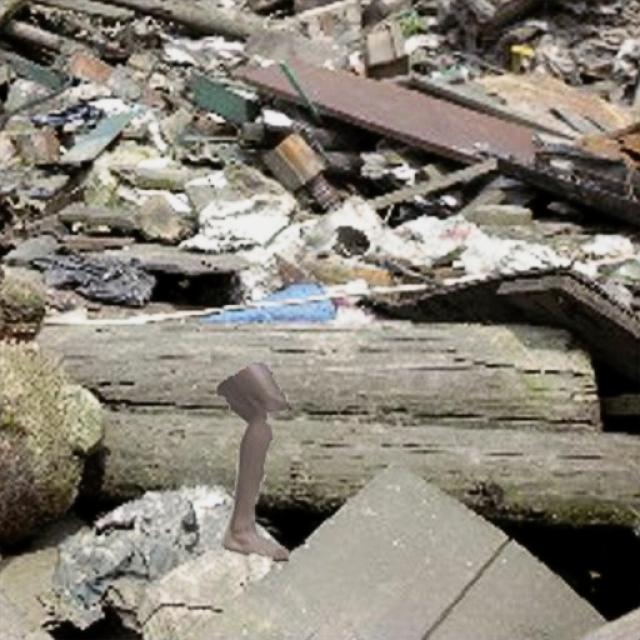Person in Rubble: (216, 362, 292, 560)
